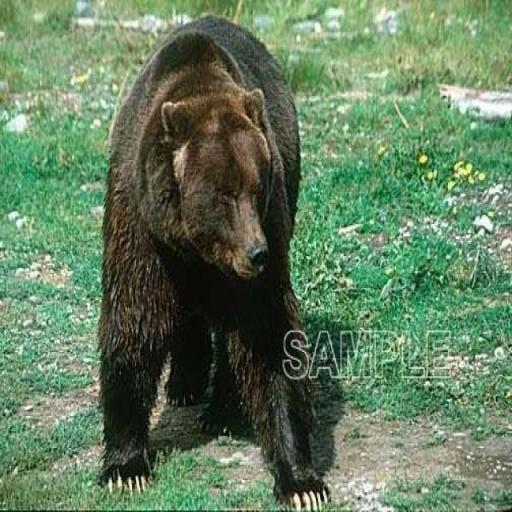Bear: (94, 14, 340, 508)
